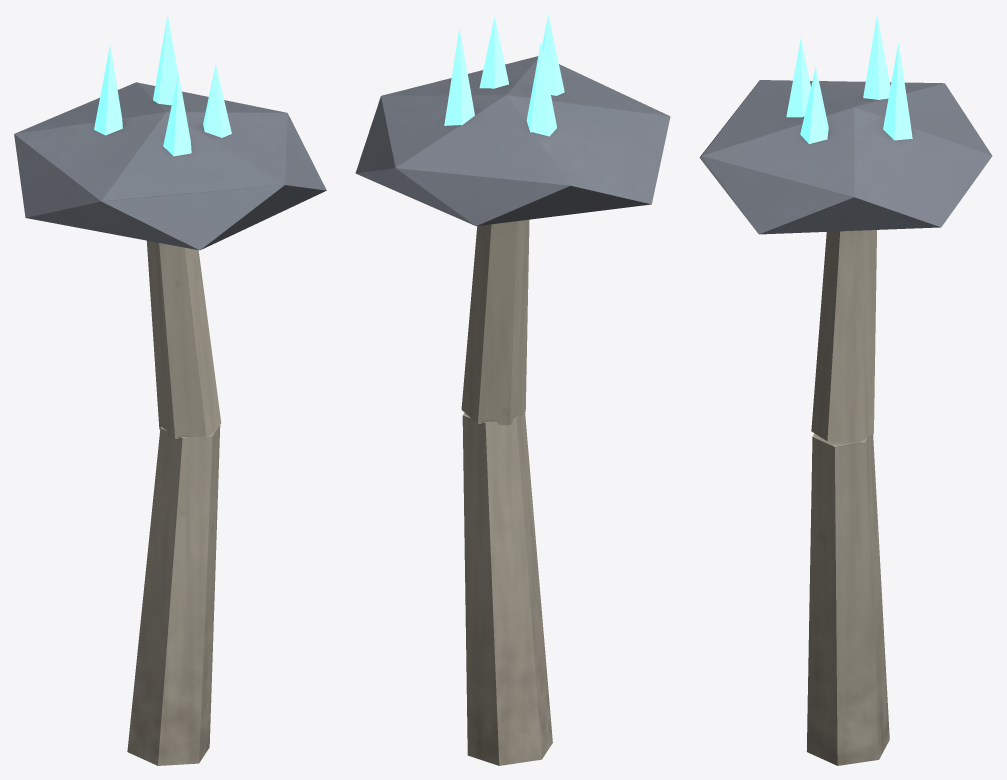
Rendered from arv_fungo_cristal_1.glb.
3 views of the same model, side by side, from view 1: azimuth 30°, elevation 25°; view 2: azimuth 150°, elevation 25°; view 3: azimuth 270°, elevation 25° (orthographic). The views are drawn at different scales.
Visible parts, largest first — view 1: arv_fungo_cristal_1; view 2: arv_fungo_cristal_1; view 3: arv_fungo_cristal_1.
Part boxes in pixels (<box>): arv_fungo_cristal_1: <box>14,15,326,765</box>; arv_fungo_cristal_1: <box>355,14,670,765</box>; arv_fungo_cristal_1: <box>699,14,992,765</box>.
Bounding box in the file's own units: 0.7776 × 2.02 × 0.7482.
2 materials, 1 textured.
